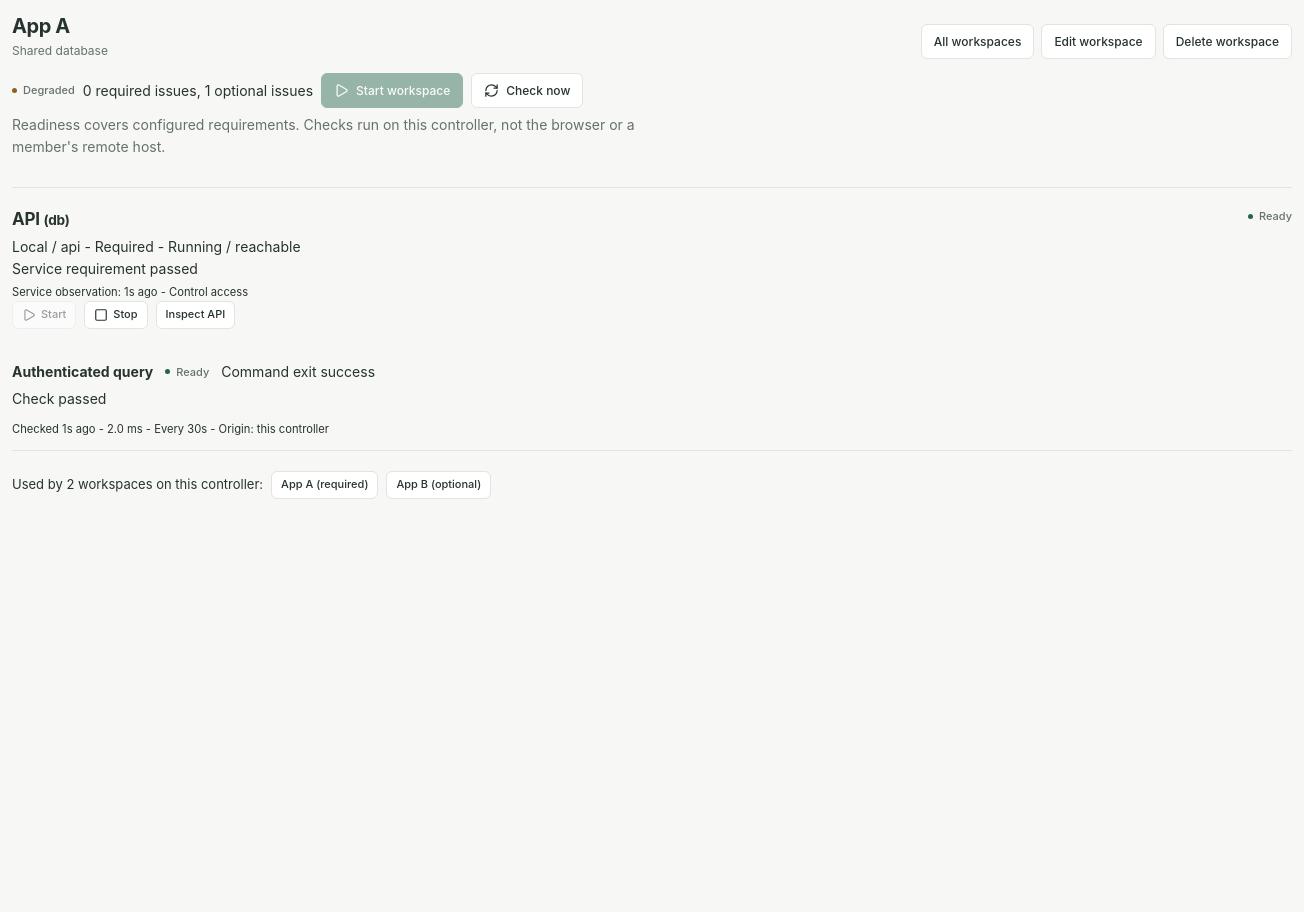
Test: requires shared-stop confirmation and respects the answer true
The width and height of the screenshot is (1304, 912).
Click the button with aria-label "Stop API". click: (116, 315)
box: [84, 301, 148, 329]
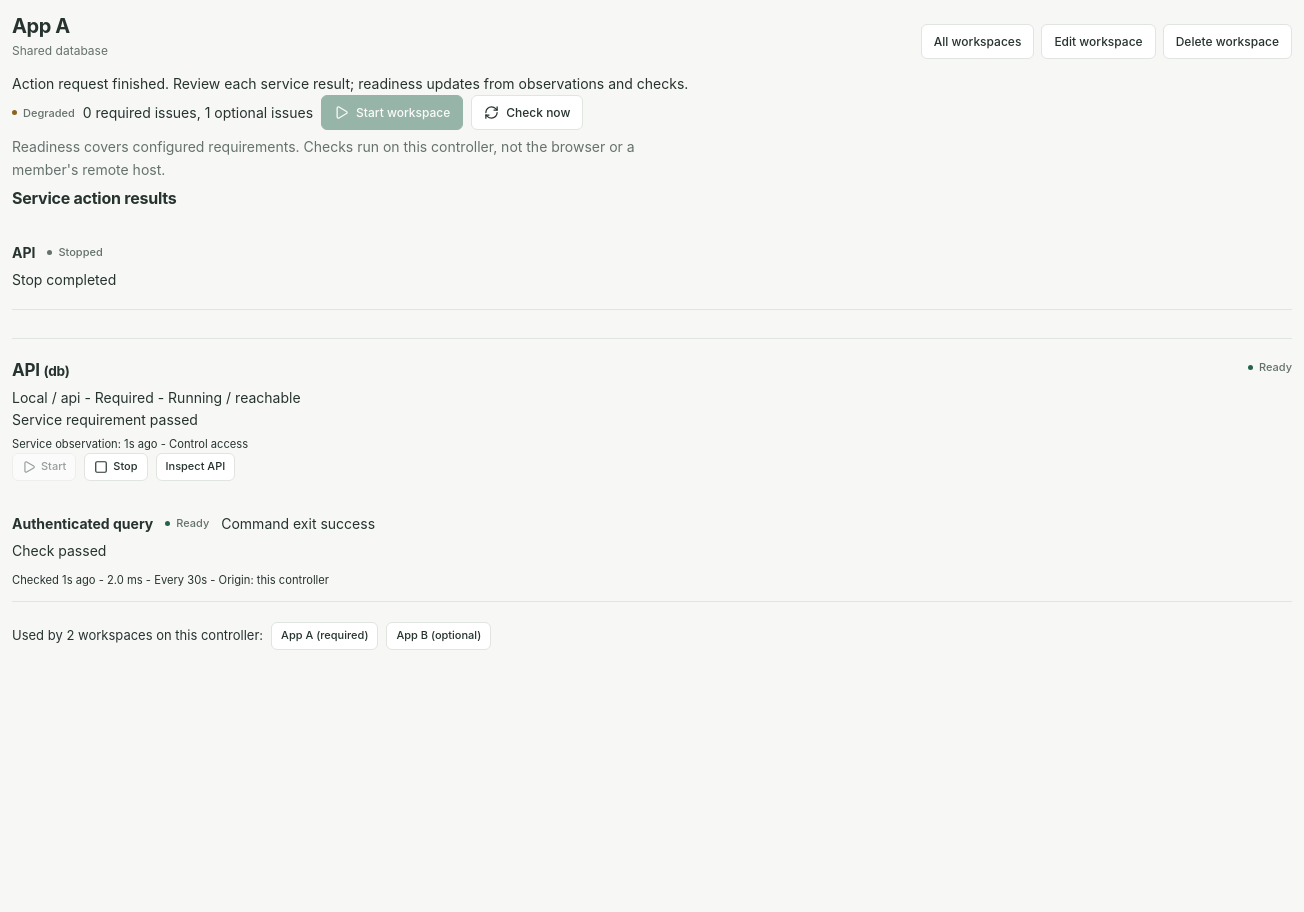
Result: the element named "Workspace action results" is shown at [12, 187, 1292, 310]
